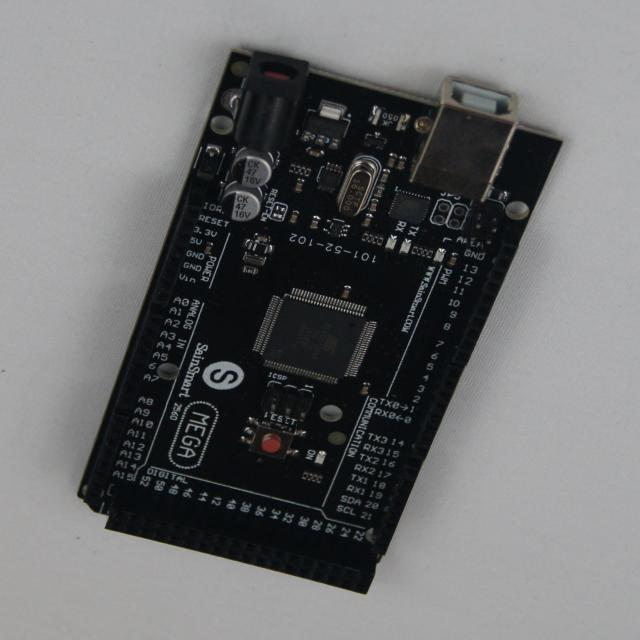Arduino Mega 2560 -Black-: (79, 51, 561, 594)
